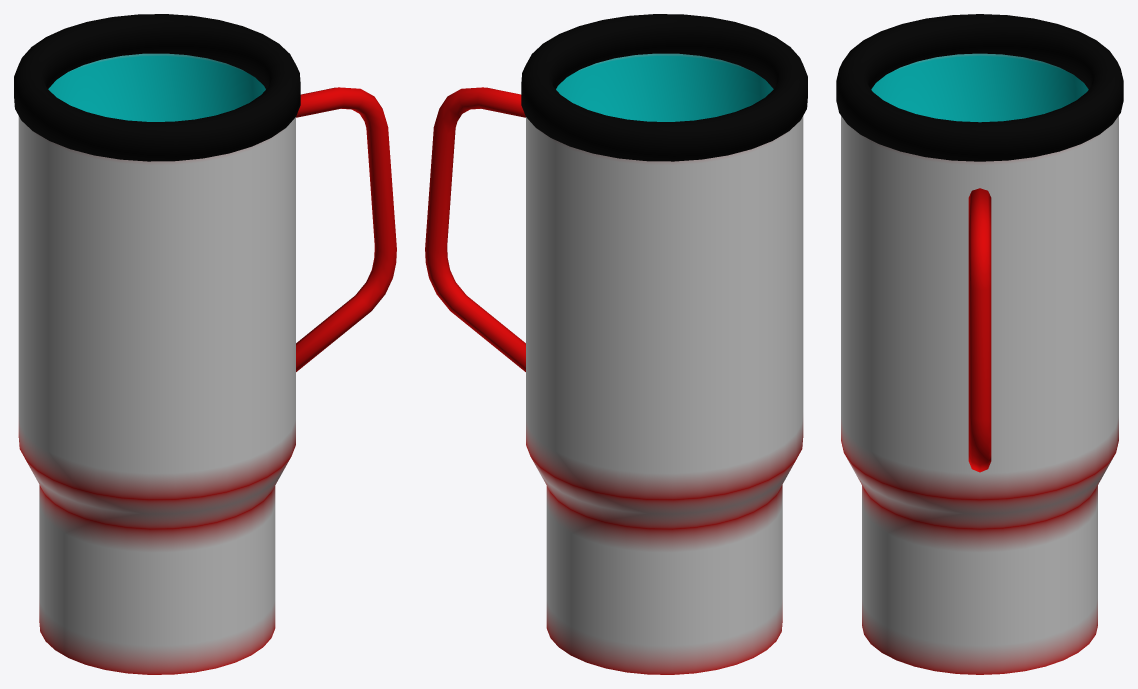
File: WaterBottle.fbx
3 renders of one model, left to right at view 1: azimuth 30°, elevation 25°; view 2: azimuth 150°, elevation 25°; view 3: azimuth 270°, elevation 25°, orthographic.
Visible parts, largest first — view 1: WaterBottle; view 2: WaterBottle; view 3: WaterBottle.
Part boxes in pixels (x1=…): WaterBottle: x1=14, y1=14, x2=396, y2=674; WaterBottle: x1=425, y1=14, x2=807, y2=674; WaterBottle: x1=836, y1=14, x2=1123, y2=674.
Size of the model in its own units: 0.912 by 1.33 by 0.6254.
